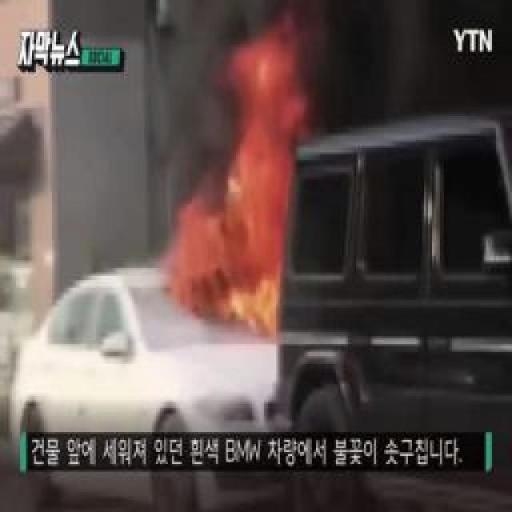smoke: (186, 45, 312, 324)
